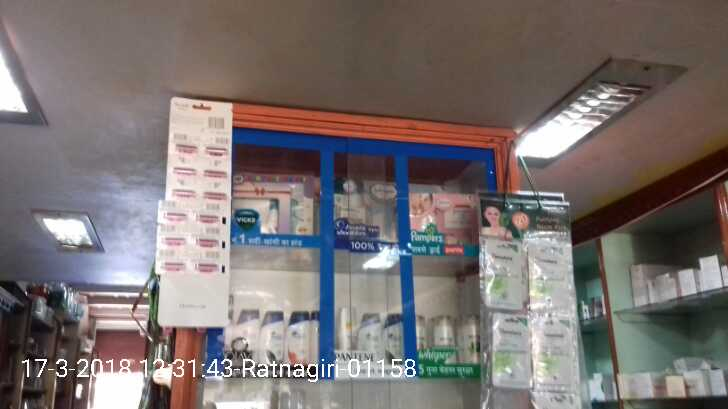beauty: (255, 307, 281, 364), (287, 310, 309, 368), (457, 314, 479, 359)
